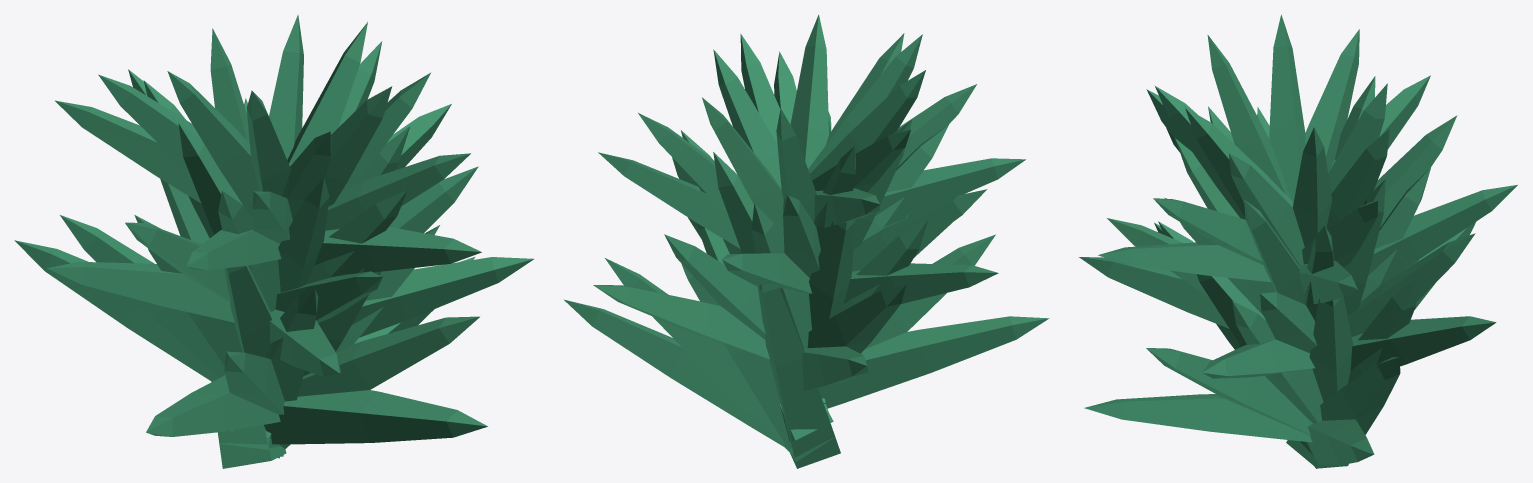
The model's file is bush.glb.
The picture shows the model from 3 angles, left to right: view 1: azimuth 30°, elevation 25°; view 2: azimuth 150°, elevation 25°; view 3: azimuth 270°, elevation 25°; orthographic projection. The views are drawn at different scales.
Visible parts, largest first — view 1: Mesh_Mesh_head_geo.001_lambert2SG.001; view 2: Mesh_Mesh_head_geo.001_lambert2SG.001; view 3: Mesh_Mesh_head_geo.001_lambert2SG.001.
Boxes of the visible parts, bbox=[...] form: Mesh_Mesh_head_geo.001_lambert2SG.001: bbox=[14, 14, 533, 468]; Mesh_Mesh_head_geo.001_lambert2SG.001: bbox=[564, 14, 1049, 468]; Mesh_Mesh_head_geo.001_lambert2SG.001: bbox=[1079, 14, 1517, 468].
Size of the model in its own units: 1.43 by 1.33 by 1.31.
